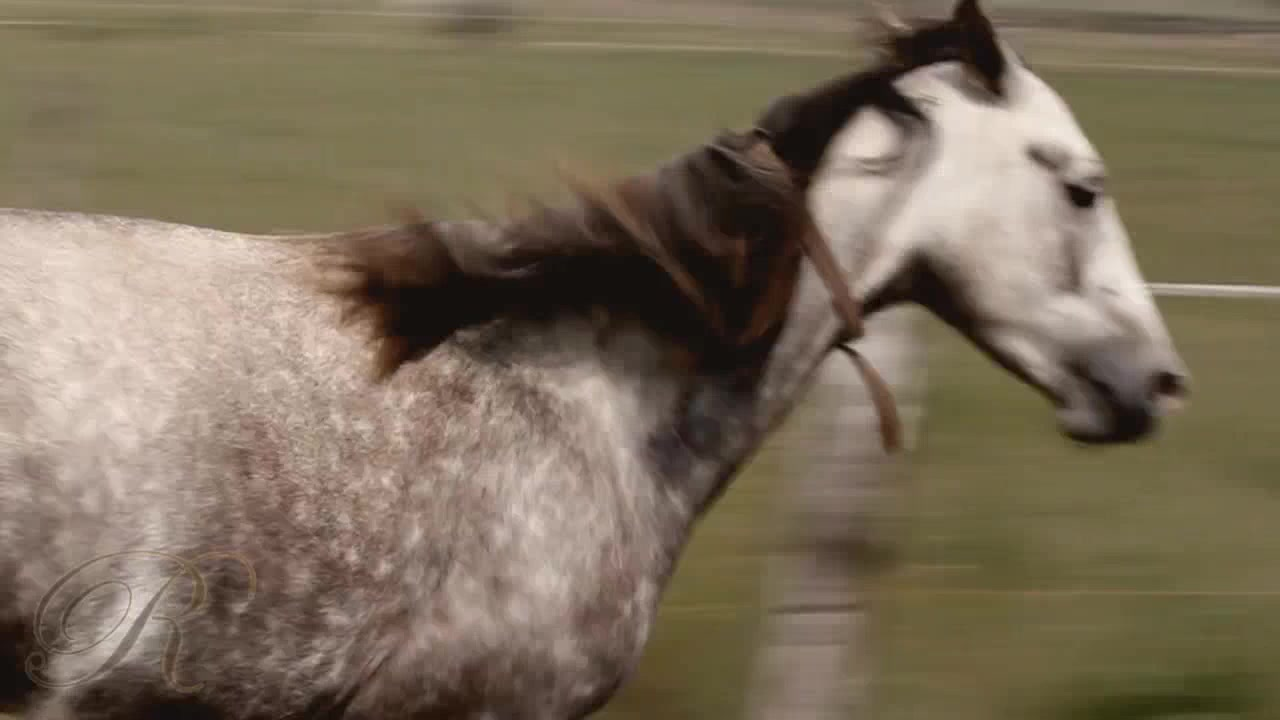horse: (1, 2, 1194, 720)
